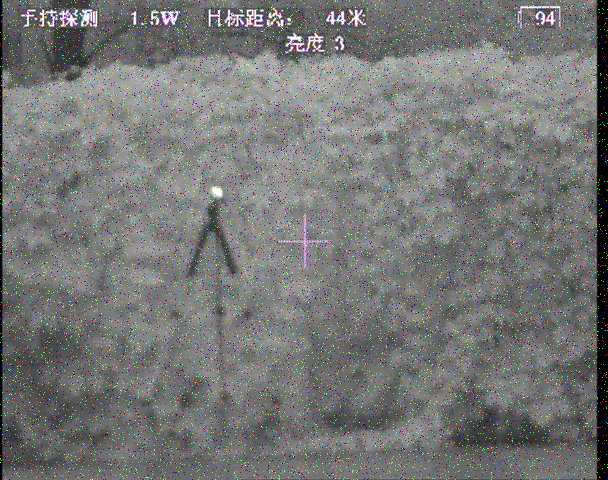my: (210, 185, 223, 200)
